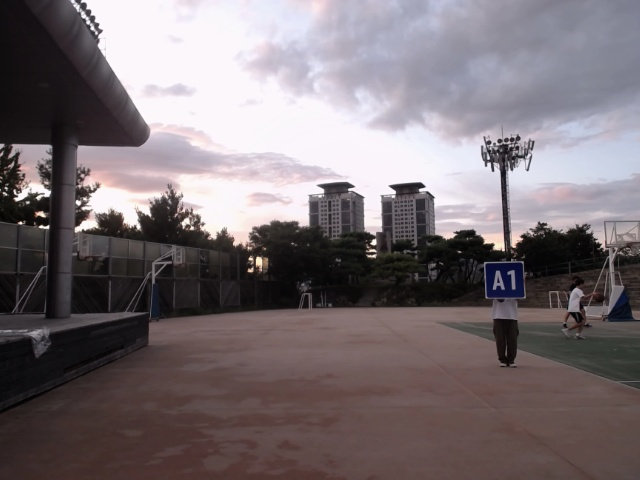delivery_a1: (484, 262, 526, 299)
